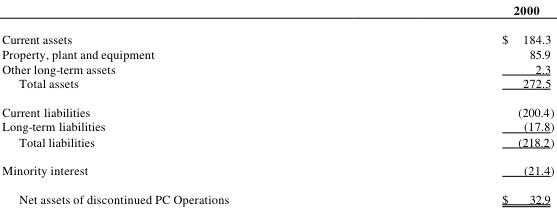table: (1, 1, 553, 206)
table column: (1, 1, 364, 206), (364, 1, 553, 206)
table column header: (1, 1, 553, 24)
table row: (1, 154, 553, 183), (1, 1, 553, 24), (1, 183, 553, 206), (1, 24, 553, 46), (1, 74, 553, 96), (1, 96, 553, 118), (1, 133, 553, 154), (1, 118, 553, 133), (1, 46, 553, 60), (1, 60, 553, 74)
